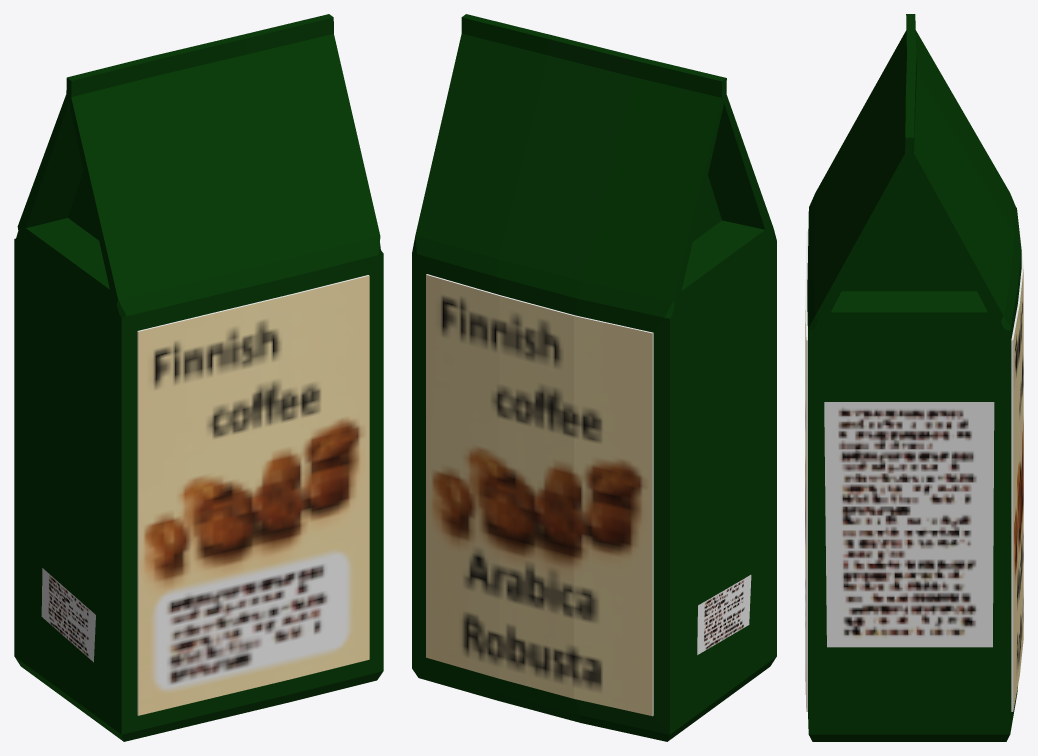
The model's file is coffee-box-3.gltf.
3 renders of one model, left to right at view 1: azimuth 30°, elevation 25°; view 2: azimuth 150°, elevation 25°; view 3: azimuth 270°, elevation 25°, orthographic. The views are drawn at different scales.
Visible parts, largest first — view 1: coffee-box3; view 2: coffee-box3; view 3: coffee-box3.
Part boxes in pixels (x1,y1,x2,y2): coffee-box3: [14, 14, 383, 741]; coffee-box3: [412, 14, 776, 741]; coffee-box3: [805, 14, 1023, 741].
Size of the model in its own units: 0.1 by 0.2286 by 0.0746.
Materials: 1 (1 with a texture image).
